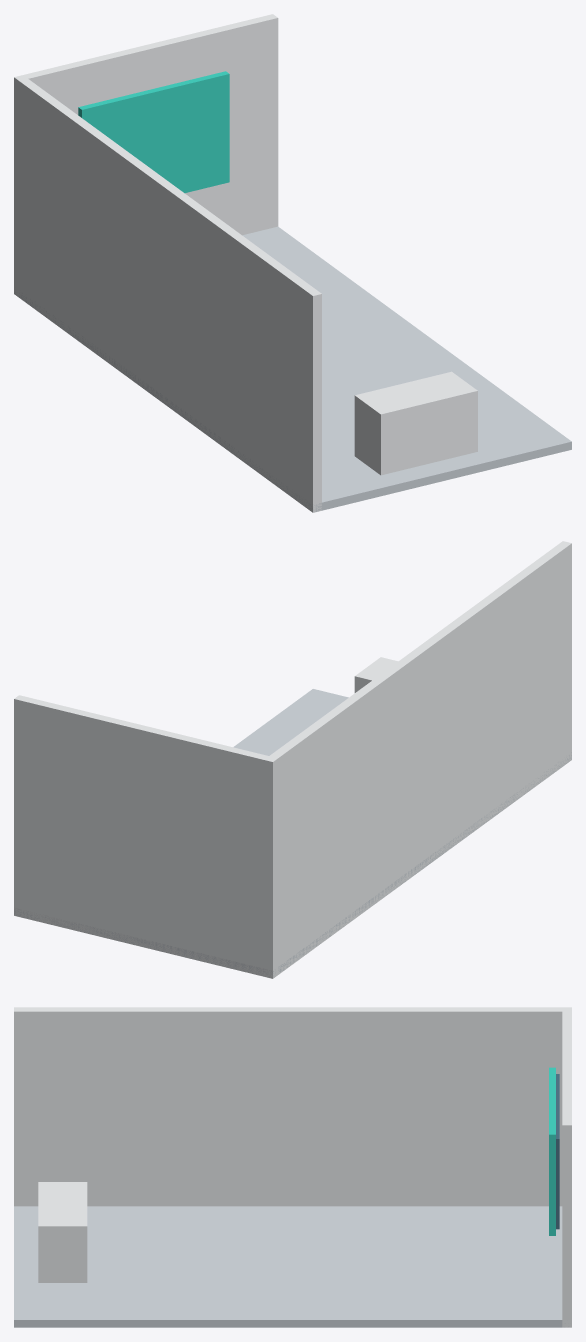
3 renders of one model, top to bottom at view 1: azimuth 30°, elevation 25°; view 2: azimuth 150°, elevation 25°; view 3: azimuth 270°, elevation 25°, orthographic. The views are drawn at different scales.
Visible parts, largest first — view 1: Exhibition Booth Concept; view 2: Exhibition Booth Concept; view 3: Exhibition Booth Concept.
Boxes of the visible parts, left/top/right/bottom form: Exhibition Booth Concept: left=14, top=14, right=571, bottom=512; Exhibition Booth Concept: left=14, top=541, right=571, bottom=978; Exhibition Booth Concept: left=14, top=1007, right=571, bottom=1327.
Size of the model in its own units: 4 by 3.2 by 8.
